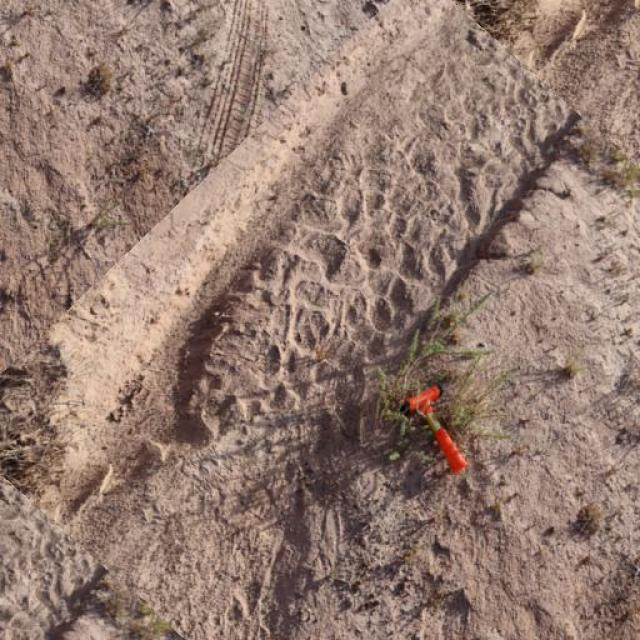mallet: (402, 381, 468, 474)
